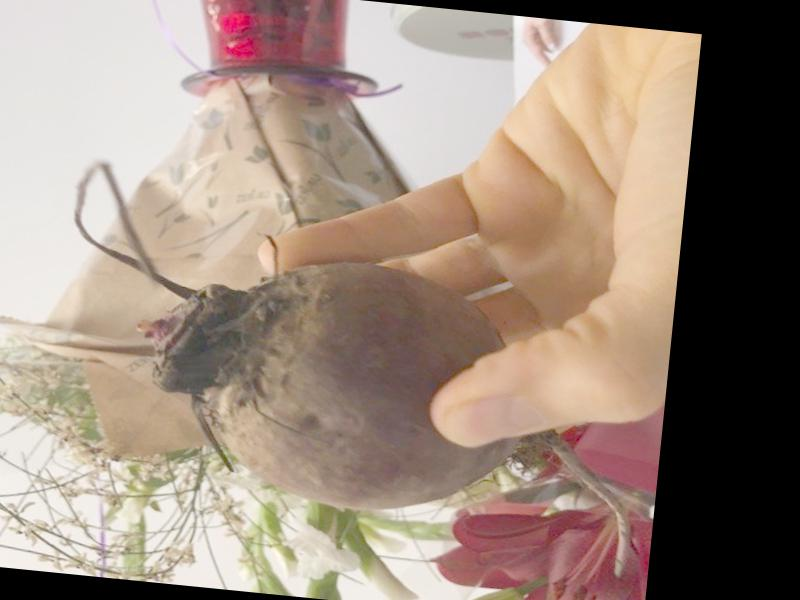Beet: (42, 159, 659, 574)
